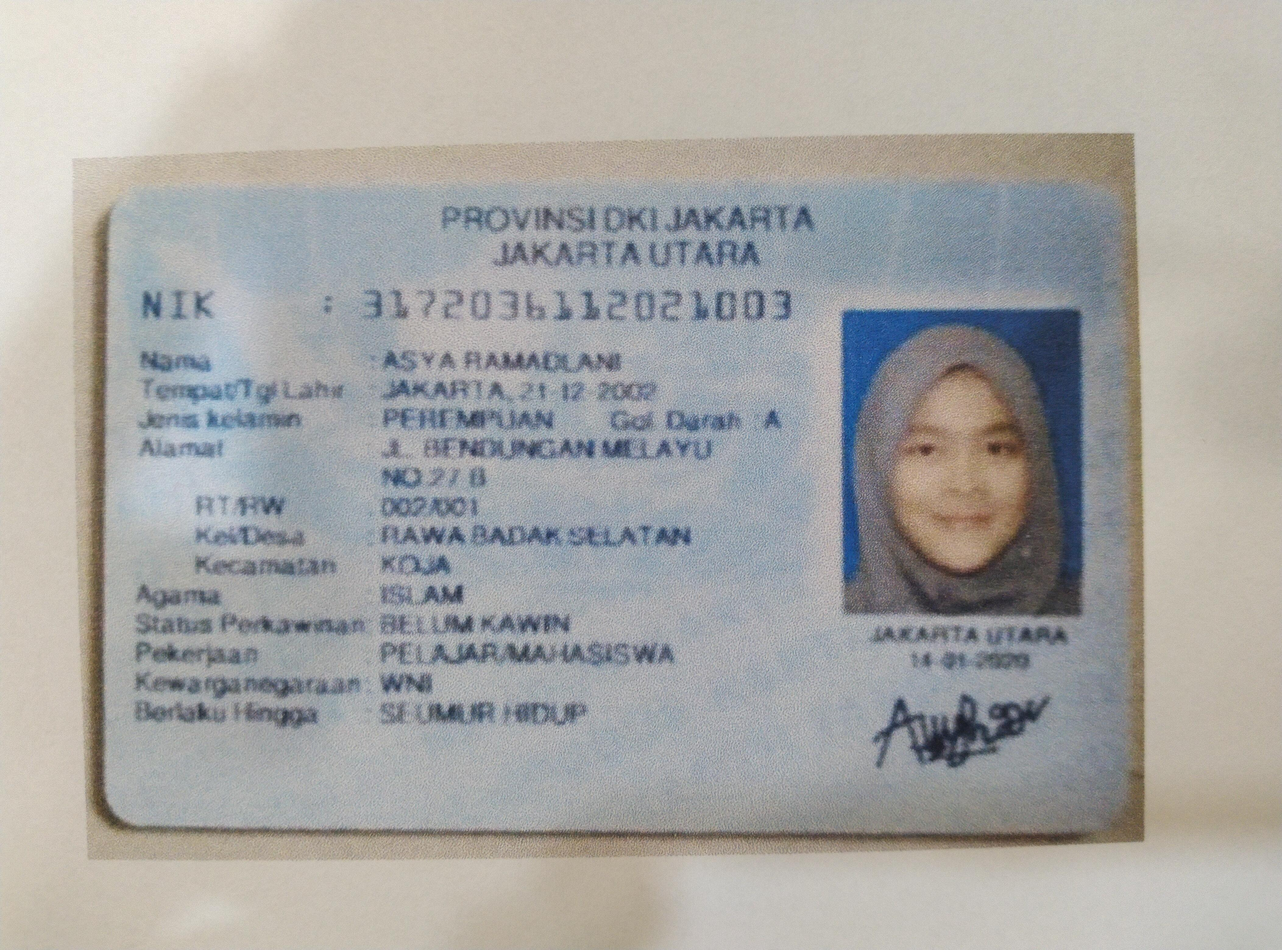ID-card: (118, 192, 1126, 818)
